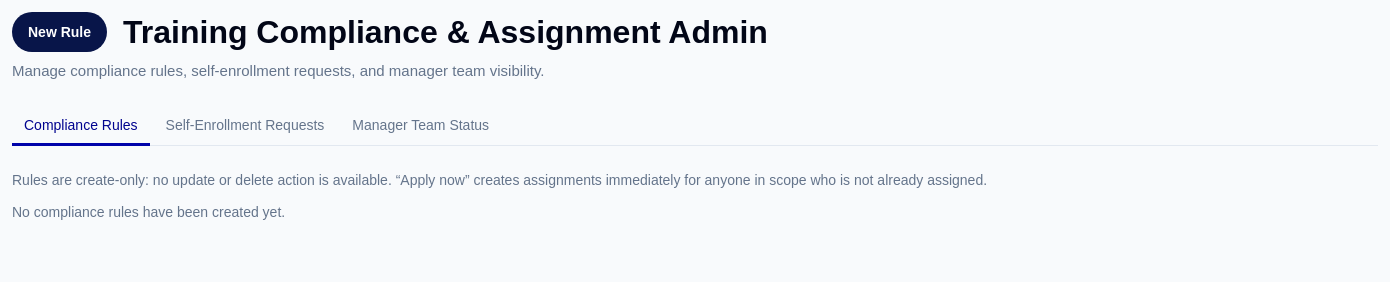
Test: MhdComplianceAdminPage › shows the choose-a-manager prompt before any manager is selected
Click the tab "Manager Team Status": (421, 126) 340,106 -> 501,146
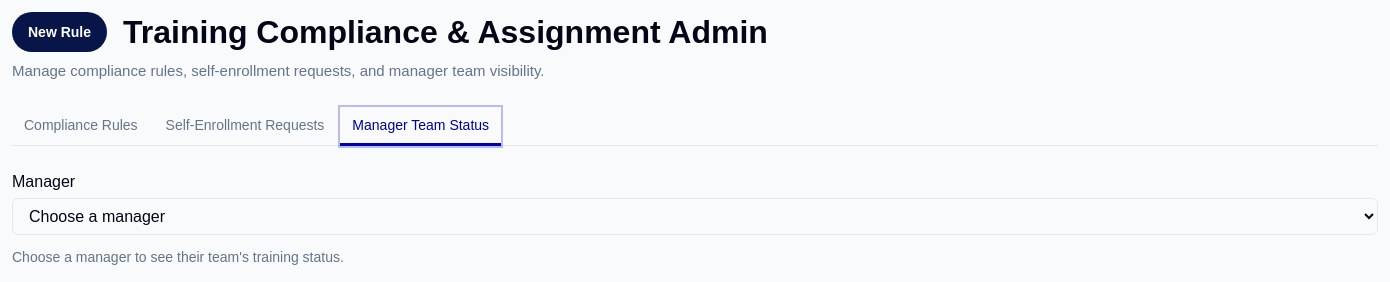
Expected: the text "Choose a manager to see their team's training status." is shown, 12,248 -> 344,264
